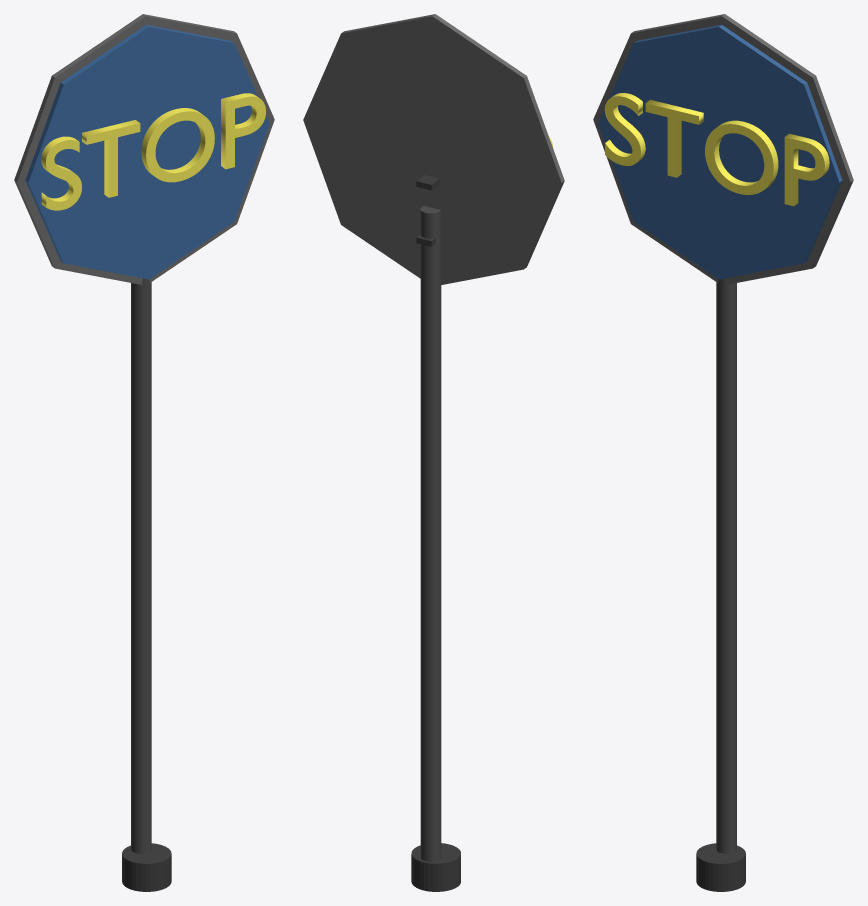
The picture shows the model from 3 angles, left to right: view 1: azimuth 30°, elevation 25°; view 2: azimuth 150°, elevation 25°; view 3: azimuth 330°, elevation 25°; orthographic projection.
Parts seen in each view (by area): view 1: object 4, object 1; view 2: object 4, object 1; view 3: object 4, object 1.
Part boxes in pixels (<box>): object 4: <box>14,14,274,284</box>; object 1: <box>122,278,171,891</box>; object 4: <box>303,14,564,284</box>; object 1: <box>411,206,460,891</box>; object 4: <box>593,14,853,284</box>; object 1: <box>696,278,745,891</box>.
Bounding box in the file's own units: 0.96 × 3.08 × 0.16.
